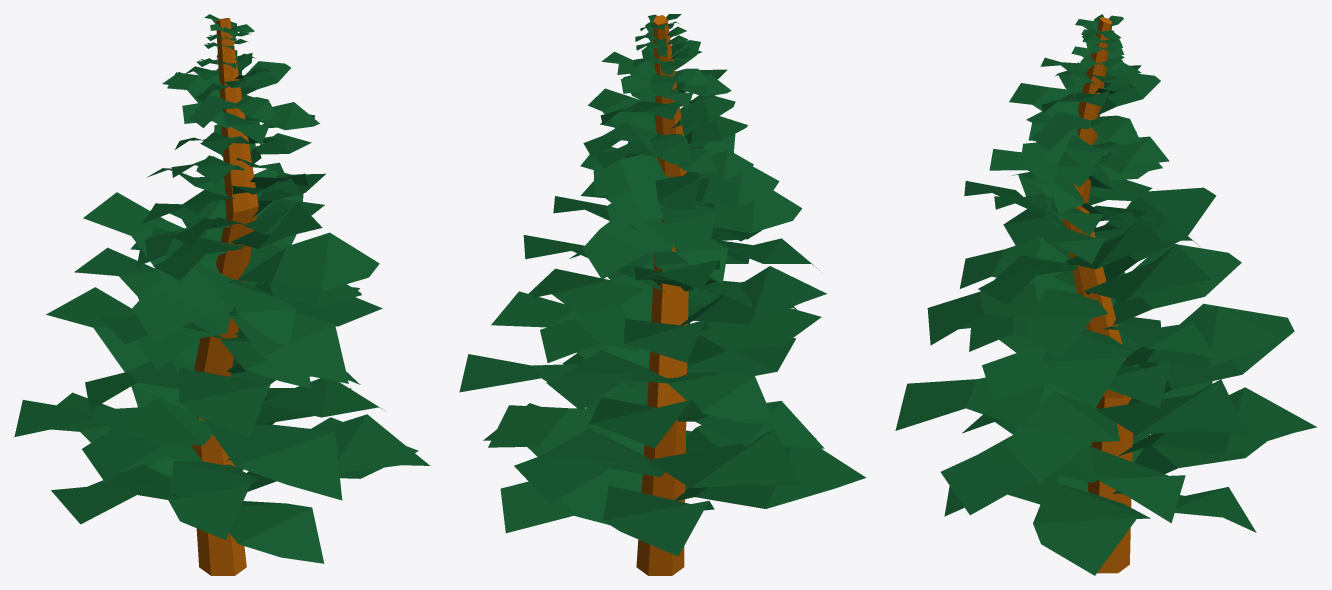
File: ağaçlar3.fbx
3 views of the same model, side by side, from view 1: azimuth 30°, elevation 25°; view 2: azimuth 150°, elevation 25°; view 3: azimuth 270°, elevation 25° (orthographic).
Visible parts, largest first — view 1: Plane.002; view 2: Plane.002; view 3: Plane.002.
Part boxes in pixels (x1=…): Plane.002: x1=14, y1=14, x2=429, y2=575; Plane.002: x1=459, y1=14, x2=866, y2=575; Plane.002: x1=895, y1=14, x2=1316, y2=575.
Bounding box in the file's own units: 340 × 500 × 350.
